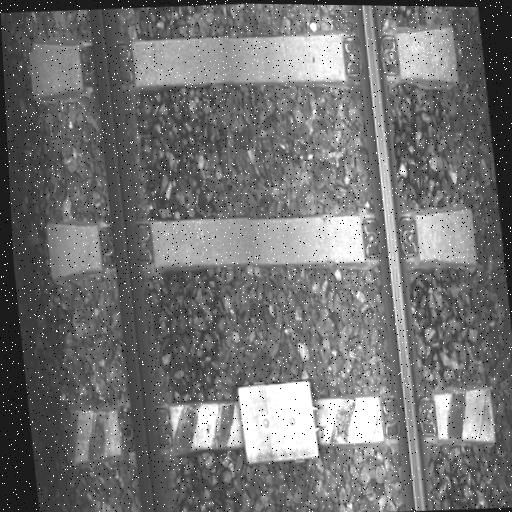sleeper: (64, 376, 498, 473), (27, 17, 461, 108), (44, 201, 478, 286)
